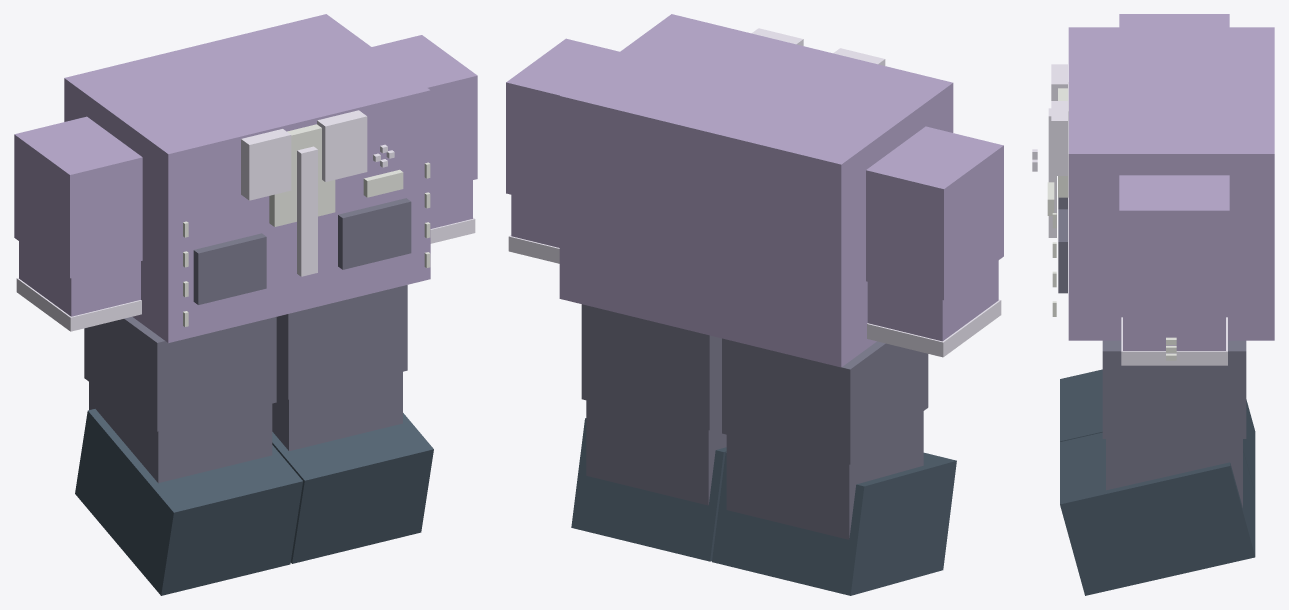
Rendered from business-lavender.glb.
3 views of the same model, side by side, from view 1: azimuth 30°, elevation 25°; view 2: azimuth 150°, elevation 25°; view 3: azimuth 270°, elevation 25° (orthographic). The views are drawn at different scales.
Parts seen in each view (by area): view 1: jacket, shoe-Right, upper-sleeve-Right, trouser-Right, shoe-Left, trouser-Left, lower-trouser-Right, upper-sleeve-Left, lower-trouser-Left, lower-sleeve-Right, pocket--1, pocket-1 (+8 smaller); view 2: jacket, upper-sleeve-Right, trouser-Right, shoe-Right, trouser-Left, lower-trouser-Right, lower-trouser-Left, upper-sleeve-Left, shoe-Left, lower-sleeve-Right, cuff-Right, lower-sleeve-Left (+1 smaller); view 3: jacket, shoe-Left, upper-sleeve-Left, trouser-Left, lower-trouser-Left, lower-sleeve-Left, shoe-Right, cuff-Left, upper-sleeve-Right, lapel-1, pocket-1, tie (+2 smaller).
Part boxes in pixels (x1,y1,x2,y2): jacket: (64,14,430,342); shoe-Right: (75,409,302,595); upper-sleeve-Right: (14,116,142,278); trouser-Right: (84,317,276,431); shoe-Left: (272,413,433,563); trouser-Left: (276,285,407,399); lower-trouser-Right: (89,382,272,482); upper-sleeve-Left: (372,35,477,190); lower-trouser-Left: (272,372,402,451); lower-sleeve-Right: (19,241,140,316); pocket--1: (193,233,266,304); pocket-1: (338,198,411,269); jacket: (559,14,953,367); upper-sleeve-Right: (866,126,1003,300); trouser-Right: (722,338,928,464); shoe-Right: (712,452,956,595); trouser-Left: (581,304,721,430); lower-trouser-Right: (726,411,923,539); lower-trouser-Left: (586,400,726,505); upper-sleeve-Left: (506,38,619,206); shoe-Left: (571,418,726,561); lower-sleeve-Right: (867,260,998,341); cuff-Right: (867,299,1001,357); lower-sleeve-Left: (511,195,559,247); jacket: (1068,27,1274,340); shoe-Left: (1060,432,1255,595); upper-sleeve-Left: (1119,175,1229,312); trouser-Left: (1102,340,1246,438); lower-trouser-Left: (1106,439,1242,507); lower-sleeve-Left: (1123,312,1225,350); shoe-Right: (1060,369,1255,493); cuff-Left: (1121,317,1227,365); upper-sleeve-Right: (1119,14,1229,27); lapel-1: (1051,101,1067,175); pocket-1: (1058,209,1067,293); tie: (1048,108,1056,237).
Size of the model in its own units: 1.08 by 1.13 by 0.559.
